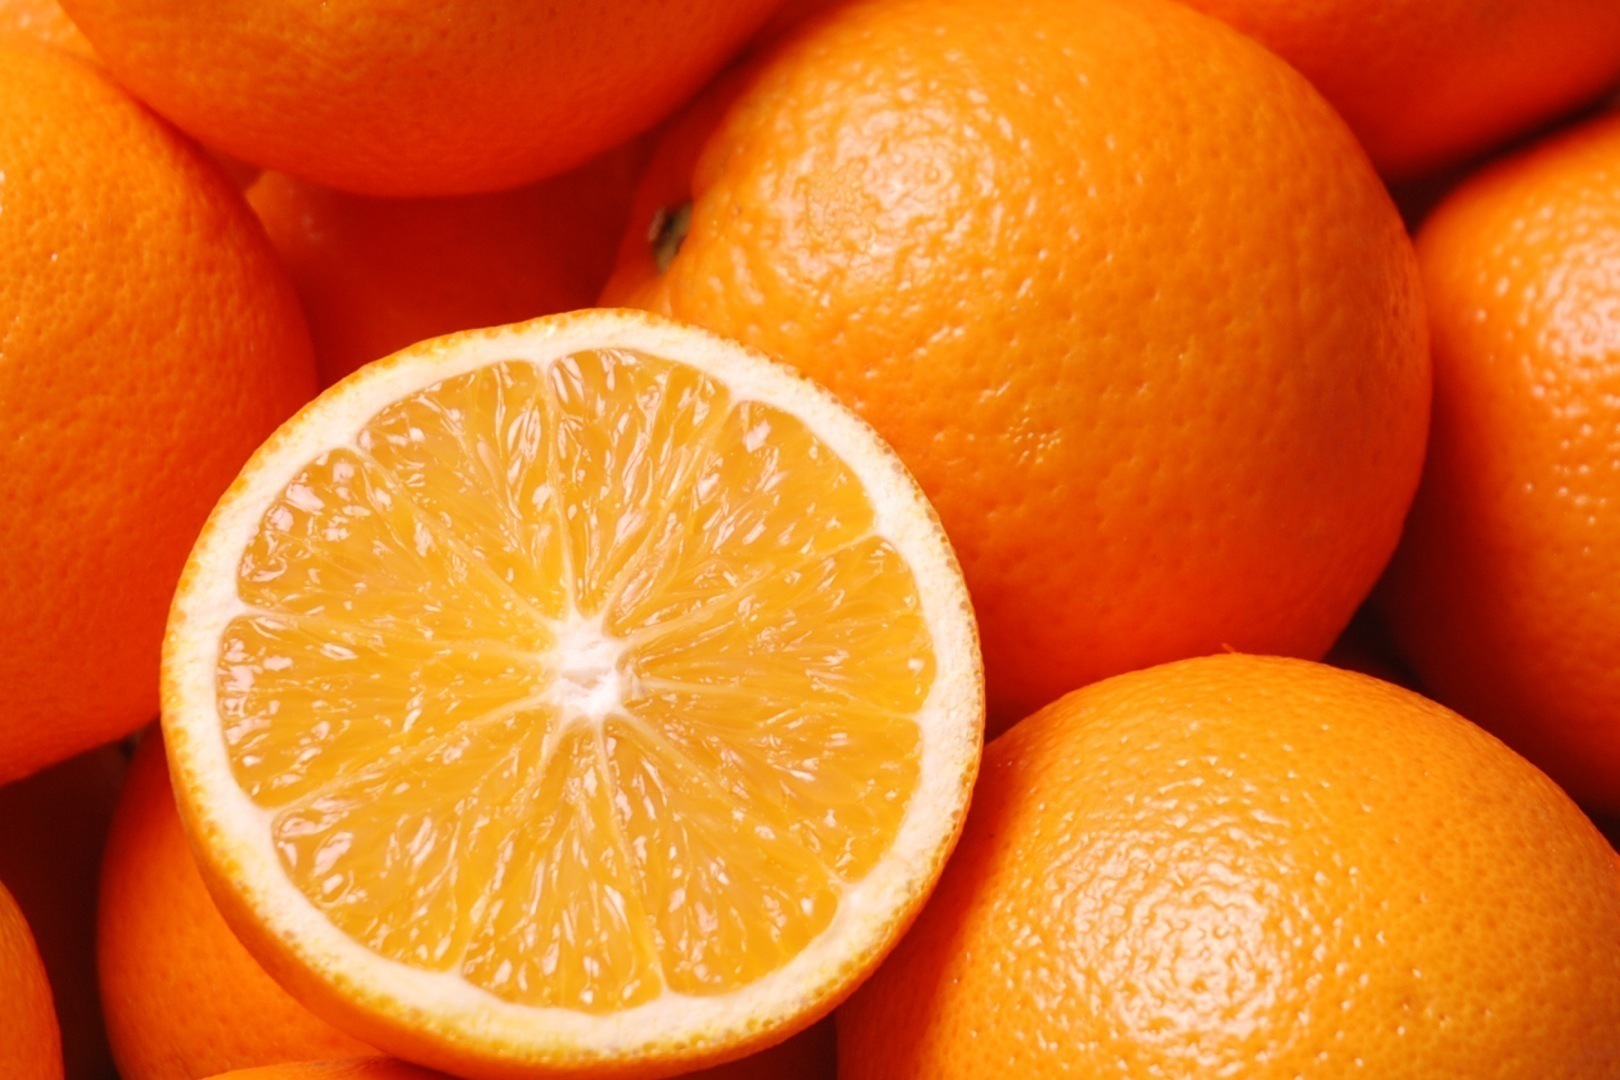orange: (569, 7, 1436, 714), (834, 630, 1619, 1080), (2, 28, 317, 868)
